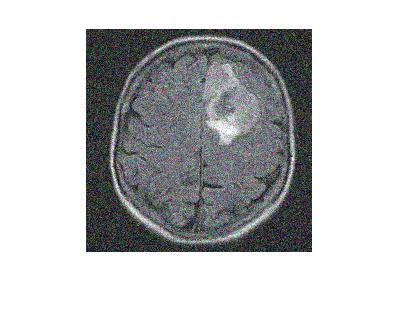Brain_Cancer: (207, 72, 273, 137)
